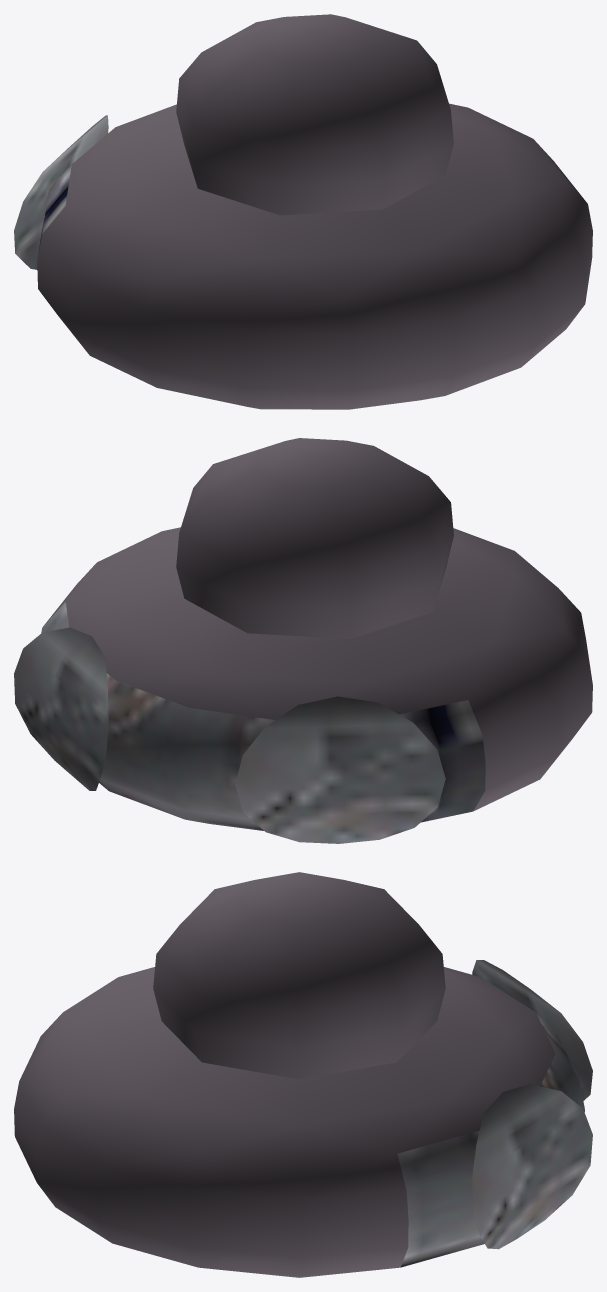
The model's file is system.ico.obj.
The picture shows the model from 3 angles, top to bottom: view 1: azimuth 30°, elevation 25°; view 2: azimuth 150°, elevation 25°; view 3: azimuth 270°, elevation 25°; orthographic projection.
Size of the model in its own units: 3.83 by 2.2 by 3.89.
